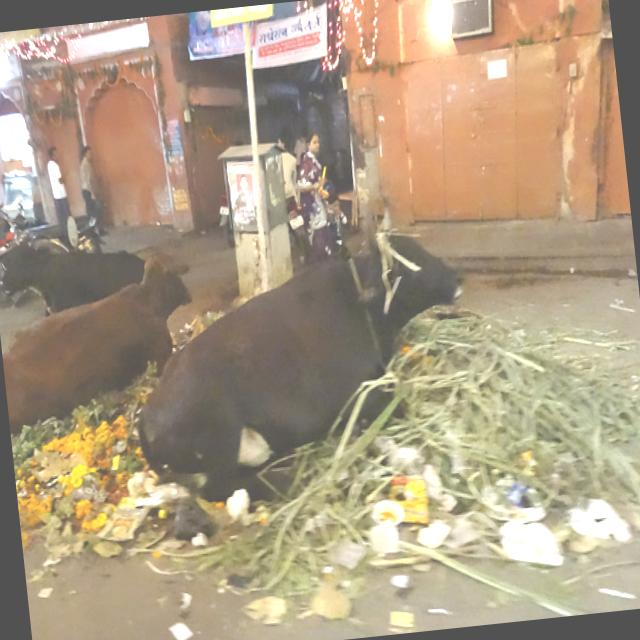Vehicle: (0, 176, 81, 258), (284, 191, 314, 267)
